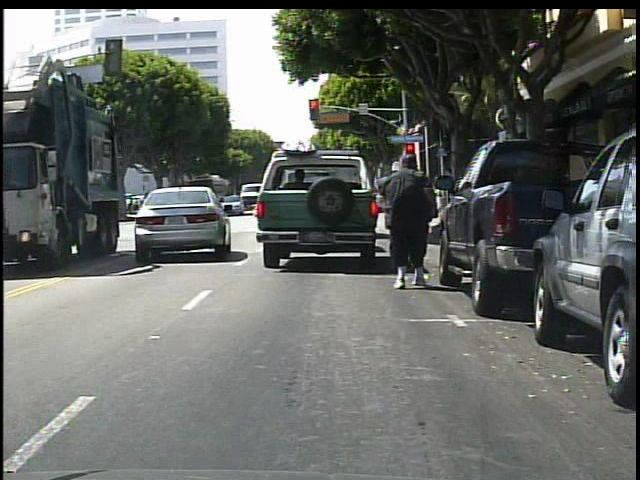person: (382, 152, 440, 289)
